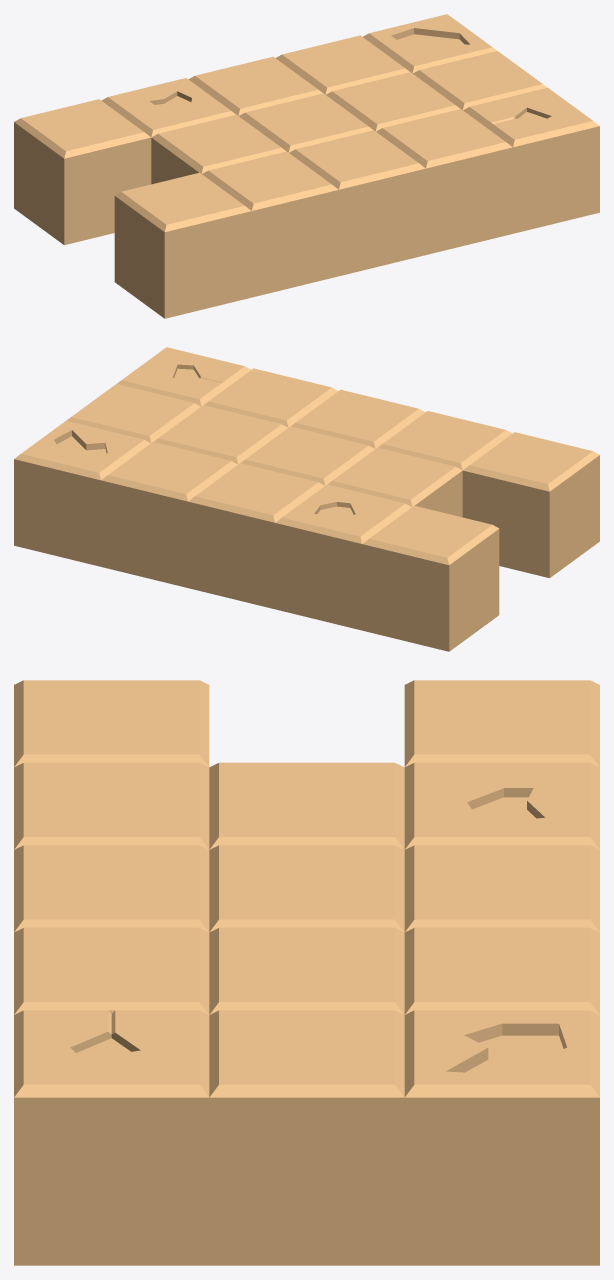
Rendered from 5x3 Floor.fbx.
3 views of the same model, one above another, from view 1: azimuth 30°, elevation 25°; view 2: azimuth 150°, elevation 25°; view 3: azimuth 270°, elevation 25° (orthographic). The views are drawn at different scales.
Parts seen in each view (by area): view 1: Cube; view 2: Cube; view 3: Cube.
Boxes of the visible parts, <box> form: Cube: <box>14,14,599,318</box>; Cube: <box>14,347,599,651</box>; Cube: <box>14,680,599,1265</box>.
Bounding box in the file's own units: 500 × 100 × 300.
